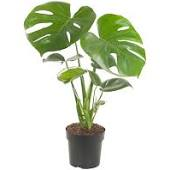plant: (24, 1, 148, 170)
